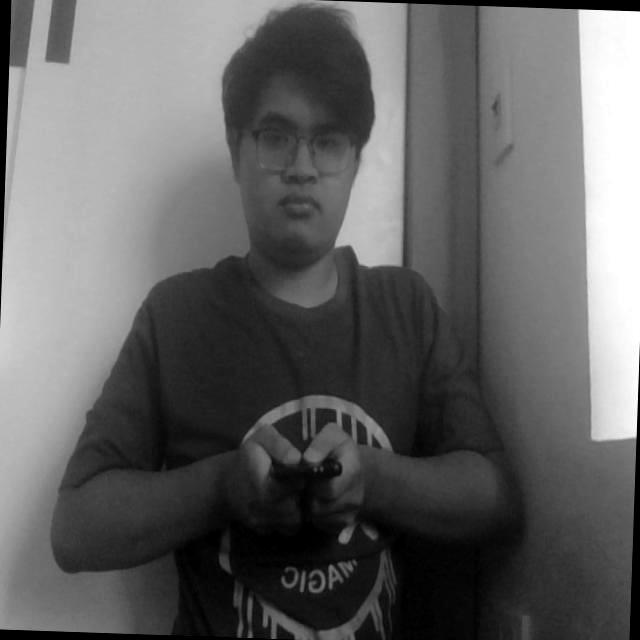phone: (256, 426, 347, 514)
